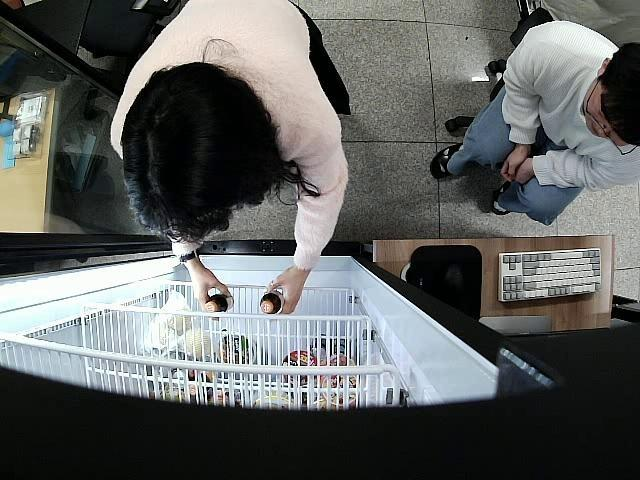17_vita500: (204, 293, 233, 318), (259, 290, 286, 316)
